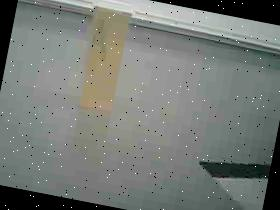Bottle A: (61, 0, 144, 120)
